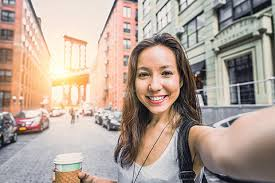Human_Female: (125, 31, 197, 181)
